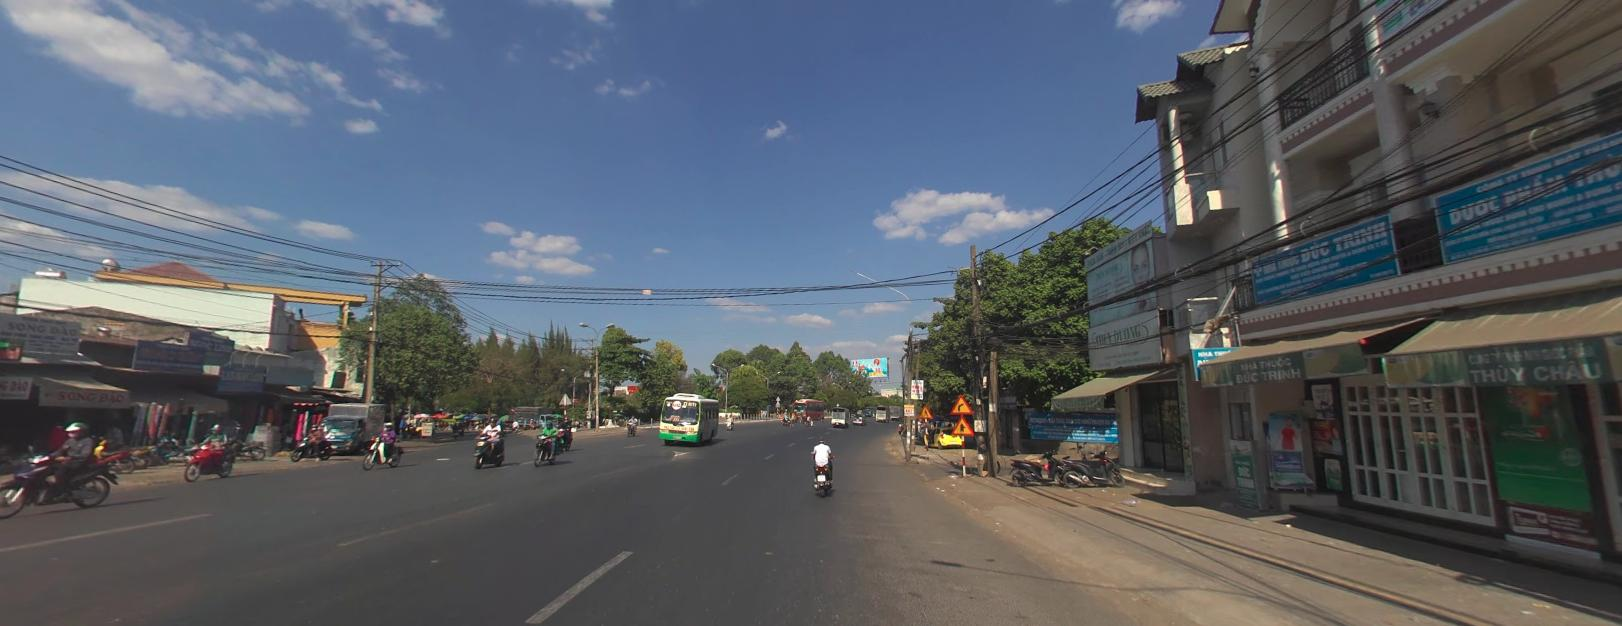Cam con lai: (508, 405, 515, 412)
Nguy hiem: (950, 414, 975, 435), (950, 392, 973, 412), (917, 403, 933, 418)
